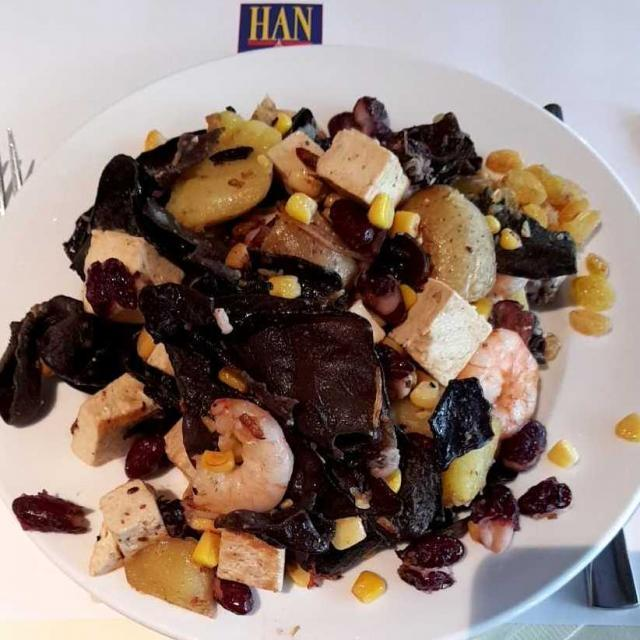corn: (193, 93, 614, 605)
shrimp: (164, 315, 558, 512)
